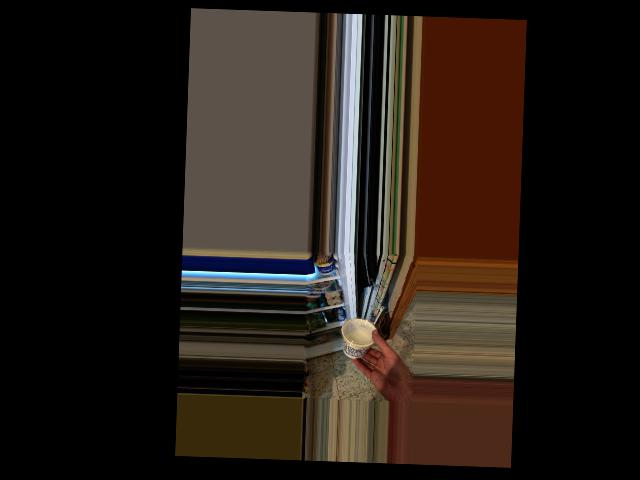cotage: (342, 319, 376, 359)
